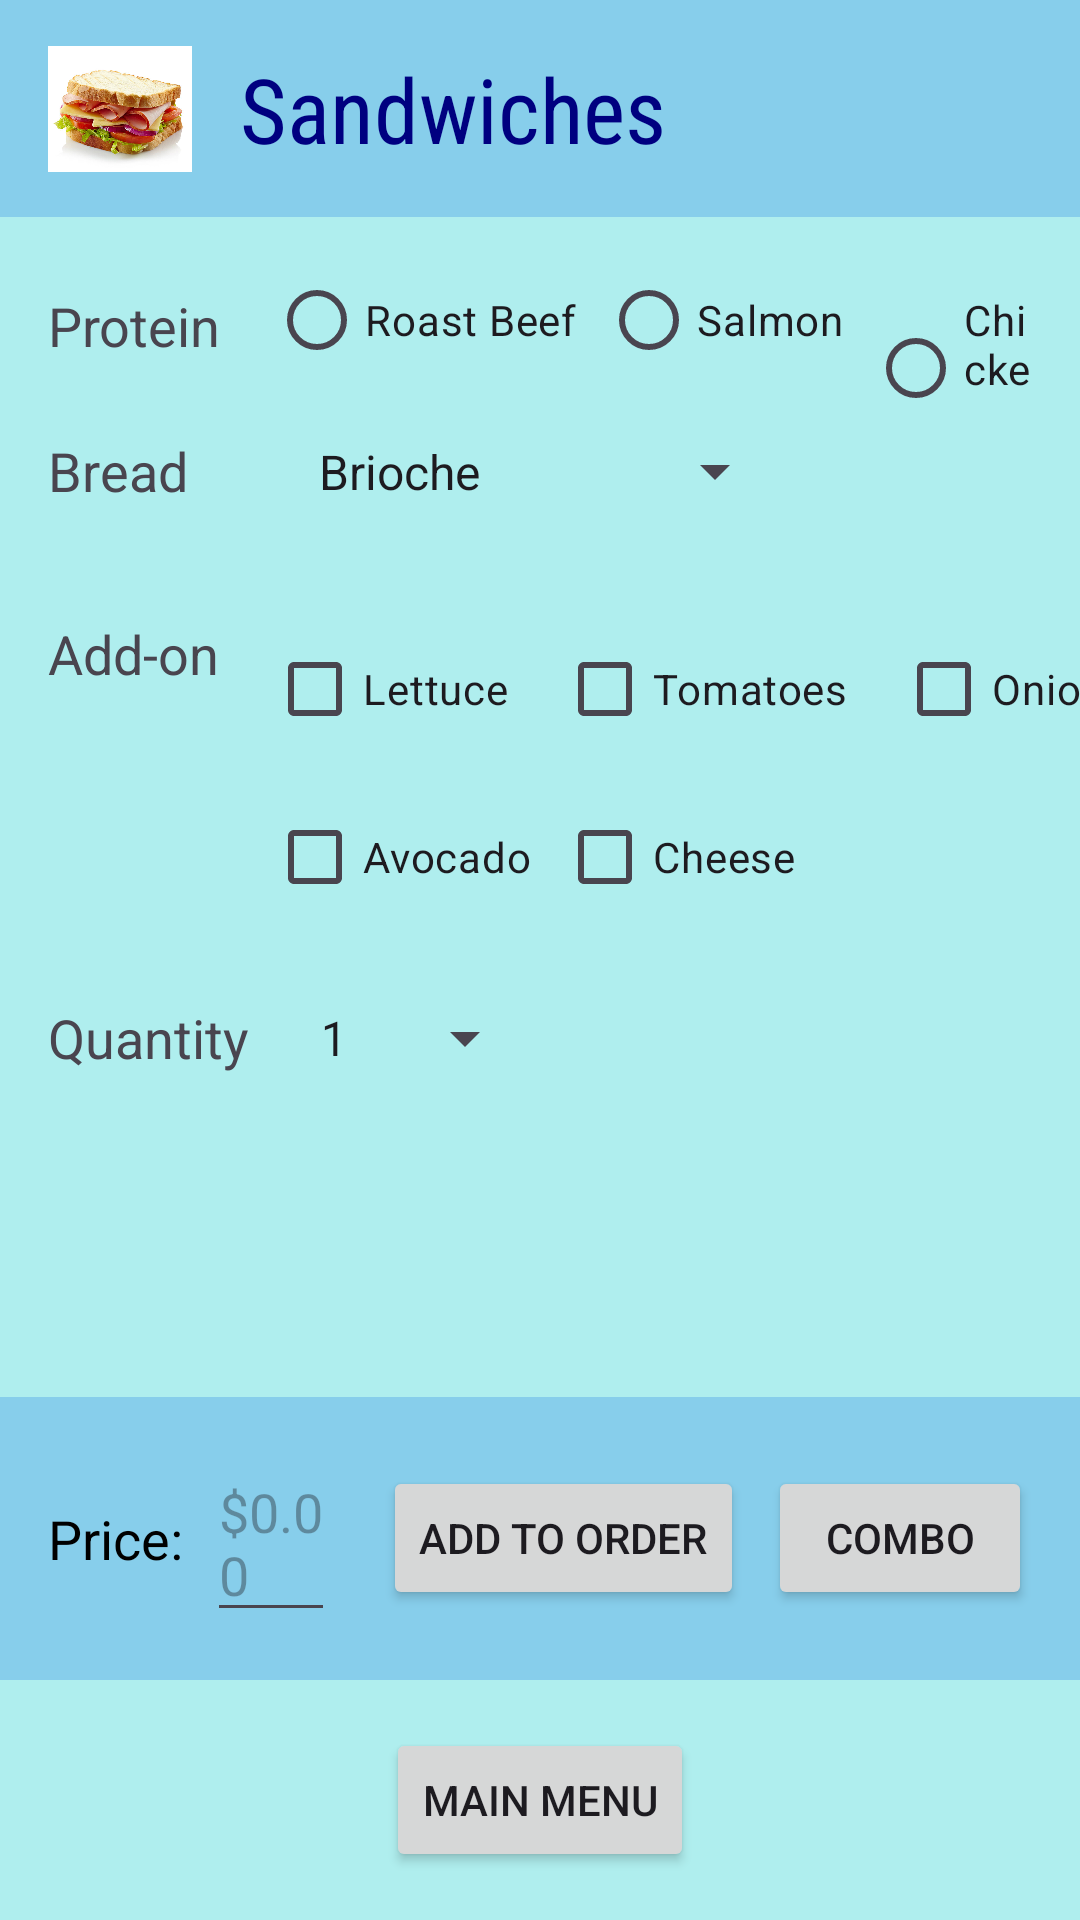

Where to tap for icons on this 1080 x 1920 app screen, as point (x, y):
Sandwich icon: point (120, 109)
